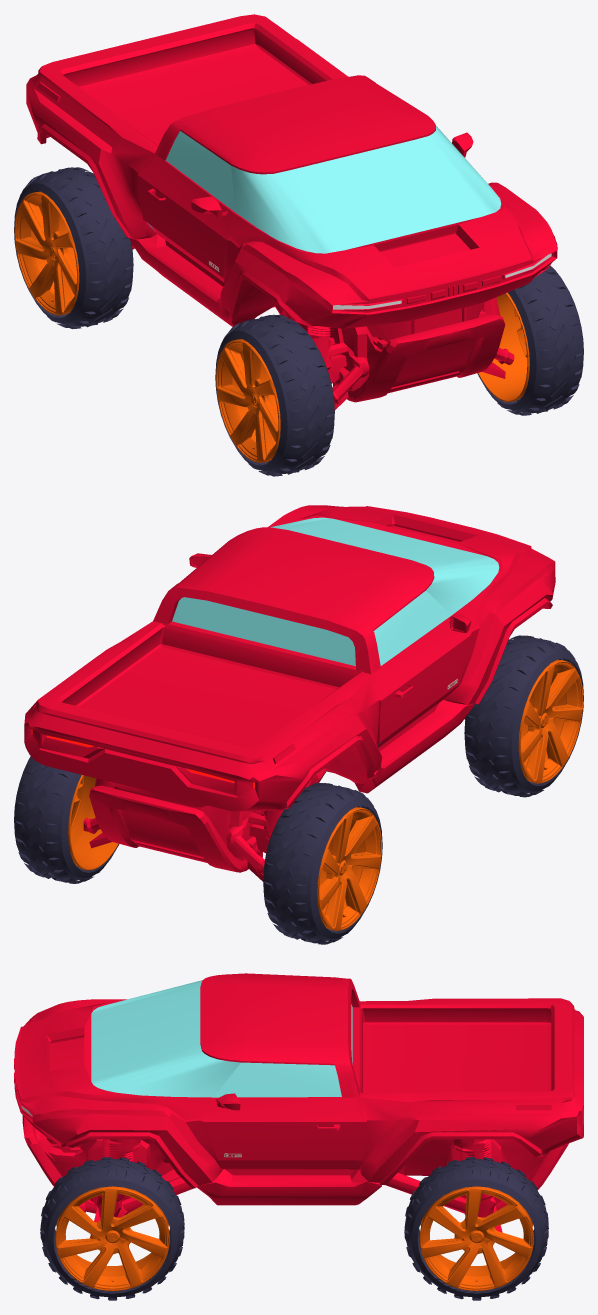
File: GOOSE_EXPORT (2).fbx
3 renders of one model, top to bottom at view 1: azimuth 30°, elevation 25°; view 2: azimuth 150°, elevation 25°; view 3: azimuth 270°, elevation 25°, orthographic. The views are drawn at different scales.
Visible parts, largest first — view 1: GOOSE, WHEEL_F_RIGHT, WHEEL_B_RIGHT, WHEEL_F_LEFT, DOOR_PASSENGER; view 2: GOOSE, WHEEL_B_RIGHT, WHEEL_F_RIGHT, DOOR_PASSENGER, WHEEL_B_LEFT; view 3: GOOSE, DOOR_DRIVER, WHEEL_F_LEFT, WHEEL_B_LEFT.
Boxes of the visible parts, x1,y1,x2,y2 form: GOOSE: [26, 14, 557, 410]; WHEEL_F_RIGHT: [215, 314, 334, 476]; WHEEL_B_RIGHT: [14, 167, 133, 329]; WHEEL_F_LEFT: [477, 265, 583, 415]; DOOR_PASSENGER: [140, 124, 235, 281]; GOOSE: [24, 505, 555, 881]; WHEEL_B_RIGHT: [263, 782, 382, 944]; WHEEL_F_RIGHT: [464, 635, 583, 797]; DOOR_PASSENGER: [366, 588, 471, 746]; WHEEL_B_LEFT: [14, 756, 119, 883]; GOOSE: [14, 973, 583, 1237]; DOOR_DRIVER: [204, 1059, 361, 1167]; WHEEL_F_LEFT: [40, 1157, 184, 1300]; WHEEL_B_LEFT: [404, 1157, 548, 1300].
Bounding box in the file's own units: 322 × 254 × 574.
